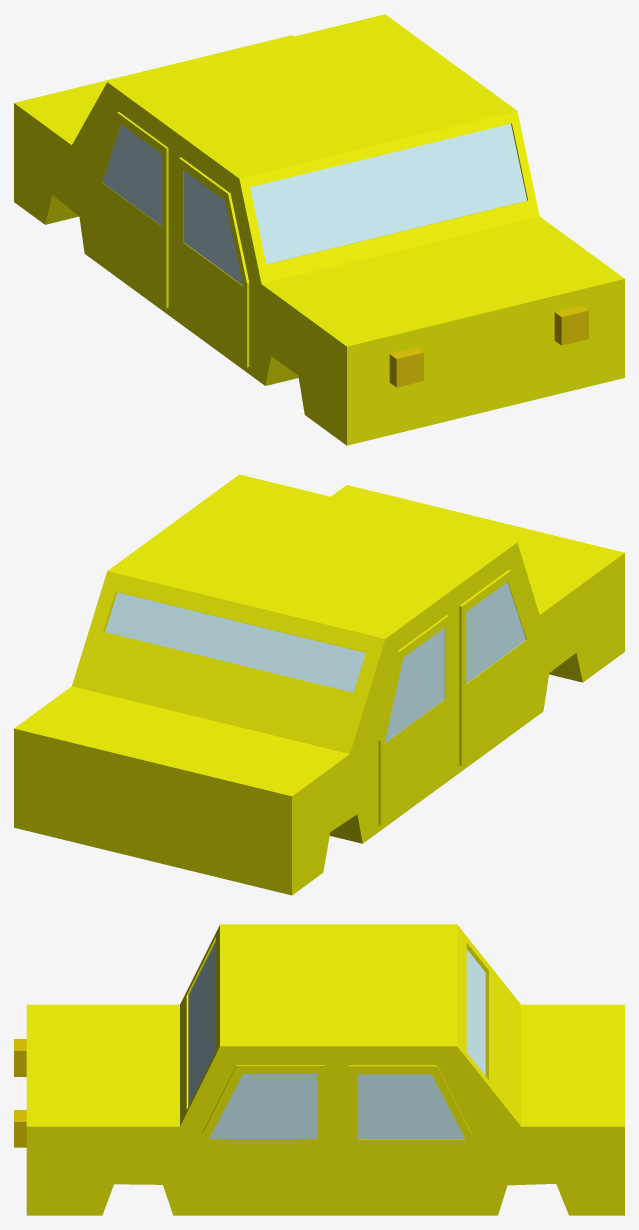
The model's file is Coche Amarillo.fbx.
3 views of the same model, one above another, from view 1: azimuth 30°, elevation 25°; view 2: azimuth 150°, elevation 25°; view 3: azimuth 270°, elevation 25° (orthographic). The views are drawn at different scales.
Visible parts, largest first — view 1: Cube, Cube.010, Cube.004, Cube.005, Cube.009, Cube.008, Cube.002; view 2: Cube, Cube.011, Cube.004, Cube.005, Cube.009, Cube.008; view 3: Cube, Cube.001, Cube.003, Cube.006, Cube.007, Cube.010, Cube.011, Cube.002.
Part boxes in pixels (<box>): Cube: <box>14,14,624,445</box>; Cube.010: <box>250,123,527,264</box>; Cube.004: <box>178,157,249,367</box>; Cube.005: <box>98,112,168,307</box>; Cube.009: <box>102,124,162,225</box>; Cube.008: <box>183,170,243,285</box>; Cube.002: <box>389,305,588,387</box>; Cube: <box>14,474,624,895</box>; Cube.011: <box>105,592,365,692</box>; Cube.004: <box>459,570,529,765</box>; Cube.005: <box>378,615,448,825</box>; Cube.009: <box>379,628,444,749</box>; Cube.008: <box>466,582,525,683</box>; Cube: <box>26,924,624,1215</box>; Cube.001: <box>348,1065,471,1209</box>; Cube.003: <box>202,1065,324,1209</box>; Cube.006: <box>209,1074,317,1138</box>; Cube.007: <box>357,1074,465,1138</box>; Cube.010: <box>188,941,215,1105</box>; Cube.011: <box>466,949,485,1075</box>; Cube.002: <box>14,1039,26,1147</box>.
Bounding box in the file's own units: 172 × 109 × 358.
